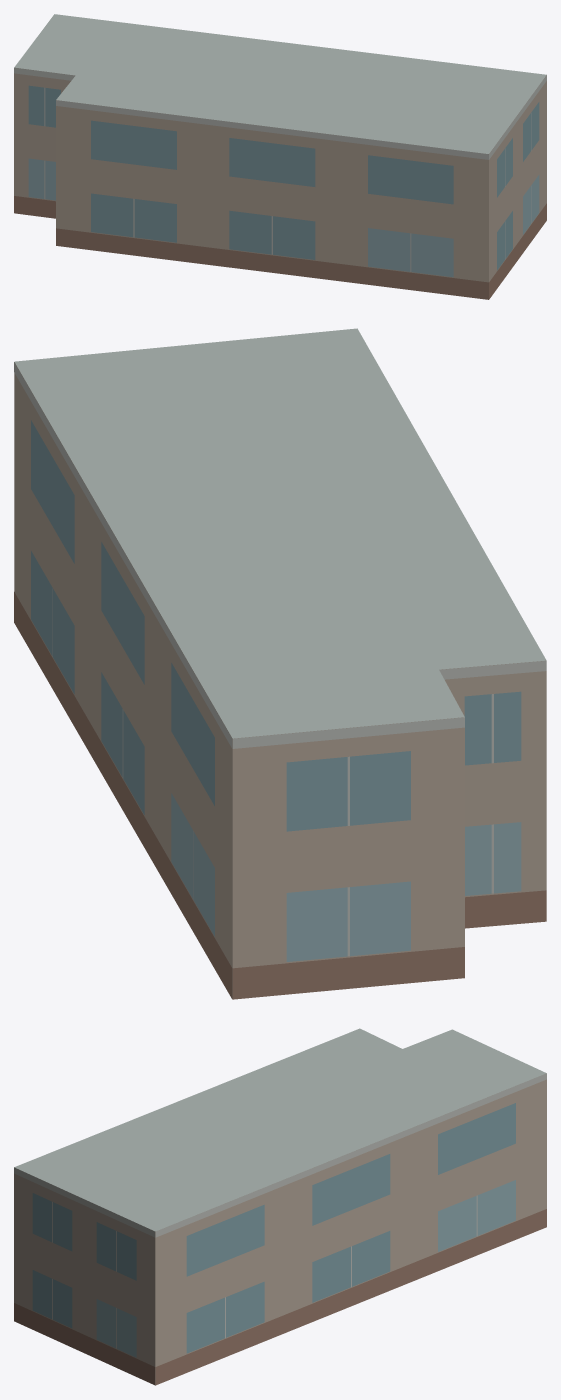
The model's file is survey-upis-32722305.glb.
3 renders of one model, top to bottom at view 1: azimuth 30°, elevation 25°; view 2: azimuth 150°, elevation 25°; view 3: azimuth 270°, elevation 25°, orthographic. The views are drawn at different scales.
Visible parts, largest first — view 1: survey-upis-32722305.tmp; view 2: survey-upis-32722305.tmp; view 3: survey-upis-32722305.tmp.
Boxes of the visible parts, bbox=[...] form: survey-upis-32722305.tmp: bbox=[14, 14, 546, 299]; survey-upis-32722305.tmp: bbox=[14, 328, 546, 999]; survey-upis-32722305.tmp: bbox=[14, 1028, 546, 1385].
Bounding box in the file's own units: 17.28 × 6.1 × 19.14.
